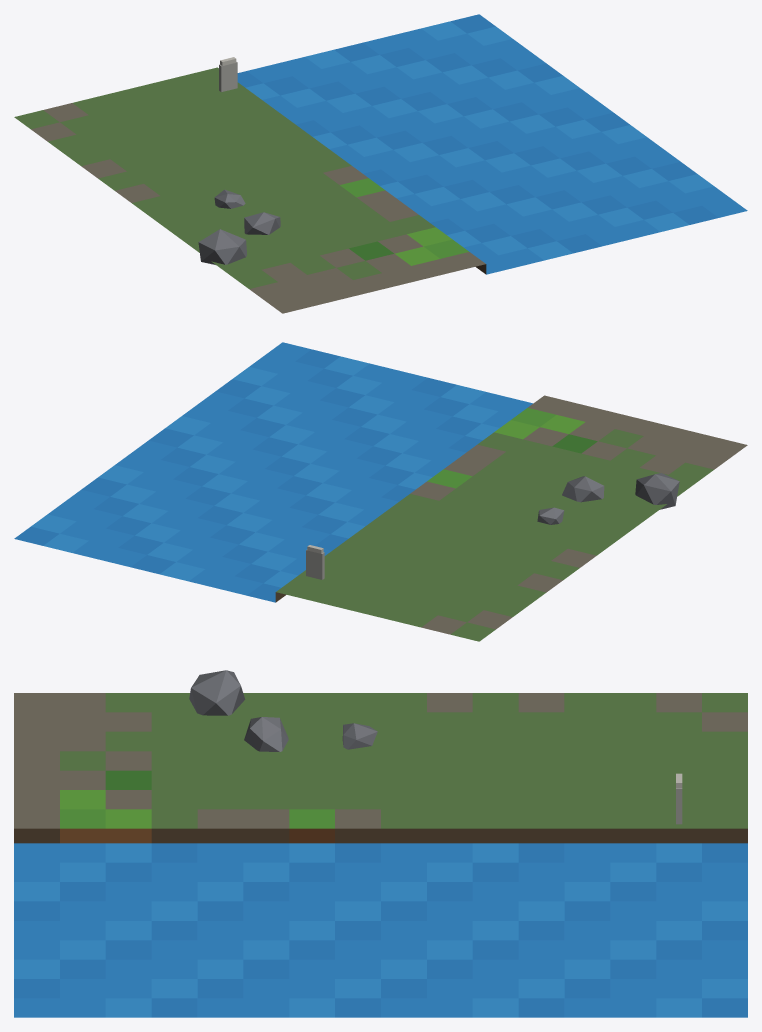
Rendered from chunk_3_20.glb.
The picture shows the model from 3 angles, top to bottom: view 1: azimuth 30°, elevation 25°; view 2: azimuth 150°, elevation 25°; view 3: azimuth 270°, elevation 25°; orthographic projection. The views are drawn at different scales.
Parts seen in each view (by area): view 1: chunk_3_20; view 2: chunk_3_20; view 3: chunk_3_20.
Part boxes in pixels (x1,y1,x2,y2): chunk_3_20: [14, 14, 747, 313]; chunk_3_20: [14, 342, 747, 641]; chunk_3_20: [14, 670, 747, 1017].
Bounding box in the file's own units: 16.16 × 1.38 × 16.
